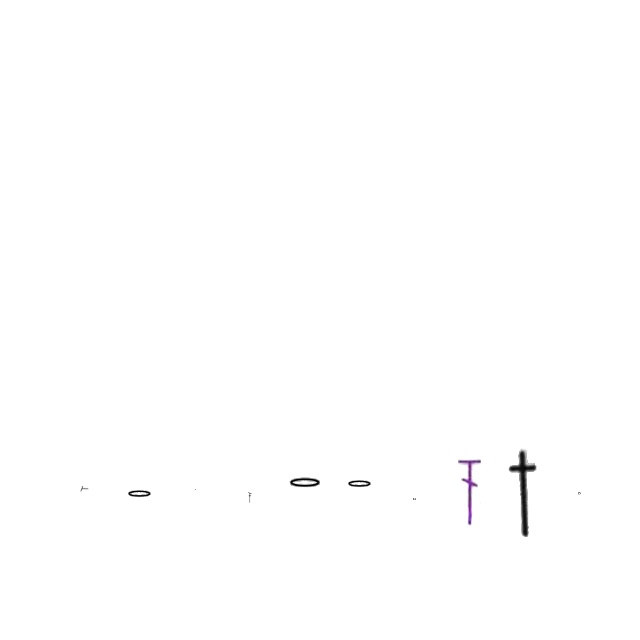chain: (287, 476, 323, 490), (126, 489, 154, 499), (346, 479, 374, 489), (578, 492, 582, 496), (414, 498, 416, 500), (194, 490, 196, 490)
double treble: (458, 456, 482, 526), (248, 492, 252, 504)
enseble_chain: (498, 448, 552, 540), (80, 486, 90, 492)
